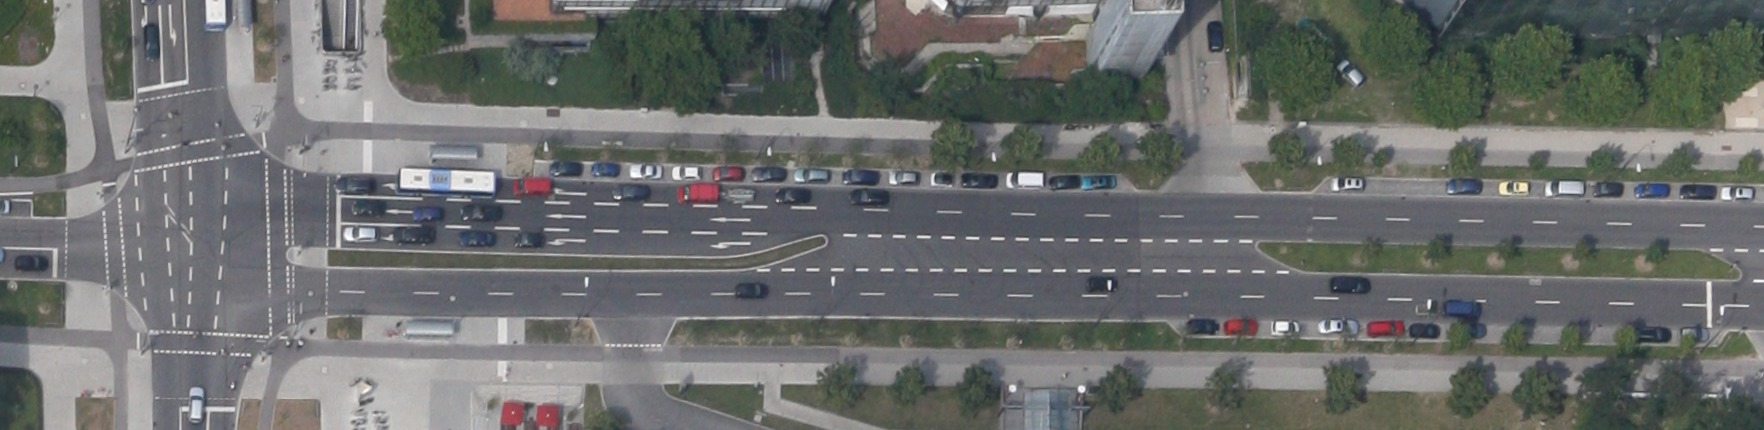car: (1333, 57, 1365, 89), (676, 183, 717, 204), (1442, 298, 1482, 317), (513, 176, 550, 196), (393, 226, 433, 244), (1543, 179, 1583, 197), (1329, 276, 1370, 293), (1316, 319, 1358, 335), (335, 174, 371, 194), (460, 204, 501, 221), (848, 188, 886, 205), (1366, 319, 1404, 335), (1005, 171, 1043, 188), (13, 254, 48, 272), (612, 183, 649, 200), (458, 230, 494, 247), (187, 385, 202, 423), (793, 167, 828, 183), (351, 198, 384, 216), (143, 23, 159, 60), (774, 187, 810, 203), (1205, 20, 1223, 52), (1444, 177, 1480, 192), (342, 226, 377, 242), (733, 283, 767, 298), (1719, 185, 1753, 200), (1084, 275, 1116, 292), (1678, 183, 1714, 198), (841, 169, 877, 183), (1186, 317, 1218, 333), (1330, 176, 1362, 191), (1639, 325, 1669, 342), (1633, 182, 1668, 197), (1224, 319, 1255, 334), (751, 165, 783, 181), (1270, 319, 1299, 335), (1592, 180, 1621, 197), (961, 172, 994, 187), (628, 163, 661, 178), (726, 186, 753, 204), (670, 164, 700, 180), (1081, 174, 1115, 188), (514, 232, 544, 247), (1408, 322, 1439, 337), (1048, 173, 1079, 188), (888, 169, 918, 183), (712, 165, 742, 180), (412, 206, 441, 221), (549, 161, 580, 174), (1498, 179, 1527, 194), (589, 161, 618, 176), (1680, 326, 1707, 341), (1415, 301, 1435, 315), (930, 171, 951, 185)
